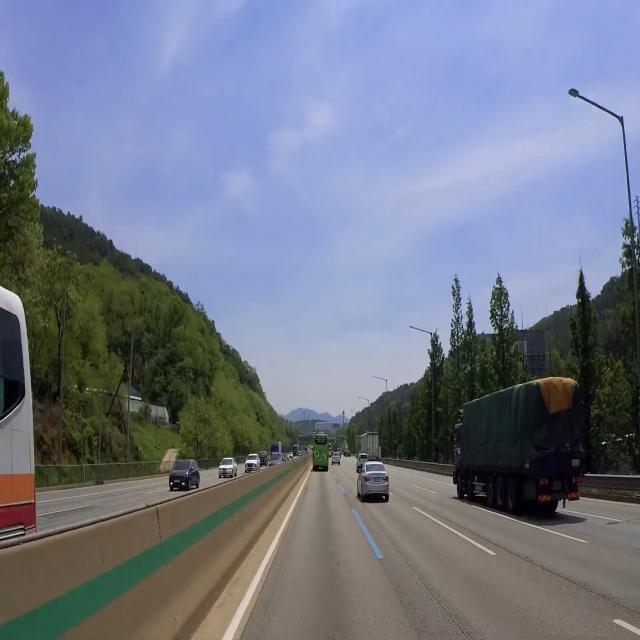car: (551, 475, 563, 494), (370, 476, 383, 485)
